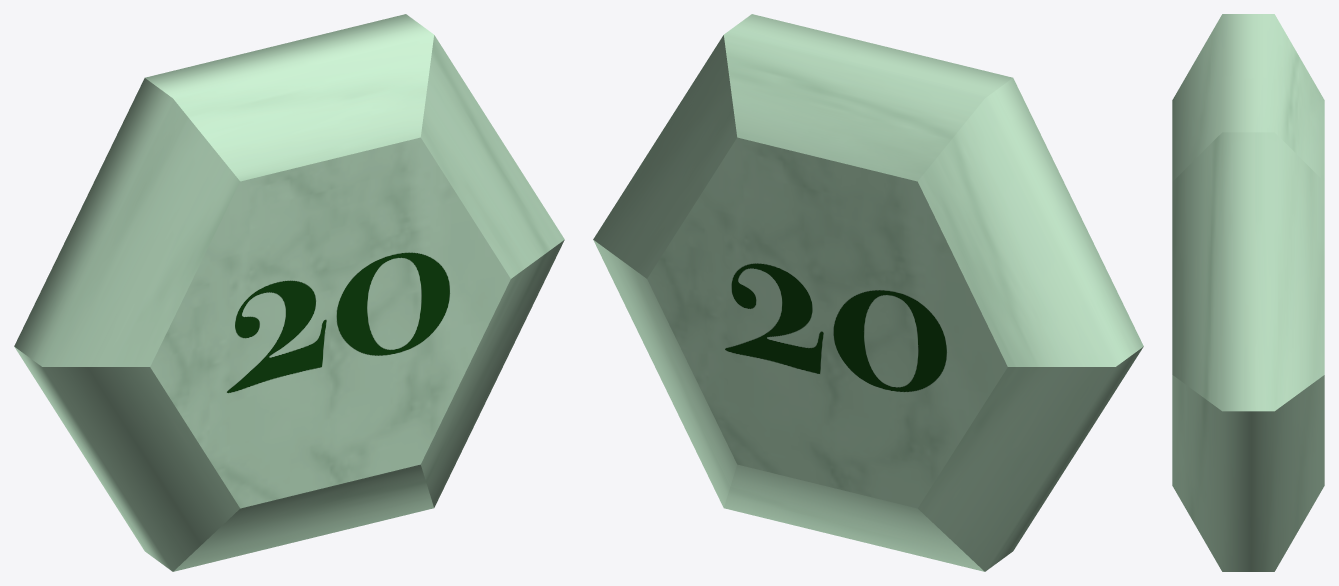
File: AbilityRechargePickup.fbx
3 views of the same model, side by side, from view 1: azimuth 30°, elevation 25°; view 2: azimuth 150°, elevation 25°; view 3: azimuth 270°, elevation 25° (orthographic). The views are drawn at different scales.
Parts seen in each view (by area): view 1: pCylinder1; view 2: pCylinder1; view 3: pCylinder1.
Part boxes in pixels (x1,y1,x2,y2): pCylinder1: (14, 14, 564, 571); pCylinder1: (593, 14, 1143, 571); pCylinder1: (1172, 14, 1324, 571).
Bounding box in the file's own units: 2 × 1.73 × 0.544.
